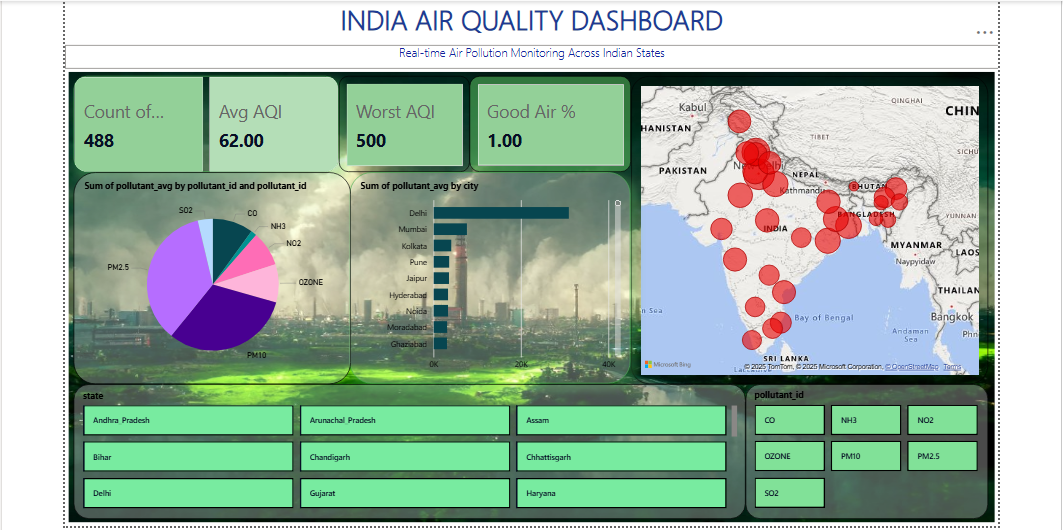

The dashboard page shown, as its layout file describes it:
{"tool":"powerbi","page":{"name":"Page 1","canvas":[1280,720],"ordinal":0},"visuals":[{"type":"textbox","box":[0,0,1280,60],"z":0},{"type":"textbox","box":[0,60,1280,32.5],"z":1000},{"type":"image","box":[0,92.4,1280.7,627.9],"z":2000},{"type":"cardVisual","fields":{"Data":["Count(aqidataset.station)","aqidataset.Avg AQI"]},"box":[11.7,102.7,363.8,132],"z":3000},{"type":"cardVisual","fields":{"Data":["aqidataset.Worst AQI"]},"box":[375.6,102.7,179,132],"z":4000},{"type":"cardVisual","fields":{"Data":["aqidataset.Good Air %"]},"box":[554.5,102.7,221.5,132],"z":5000},{"type":"map","fields":{"Size":["Avg(aqidataset.pollutant_avg)"],"Y":["latitude.latitude"],"X":["longitude.longitude"]},"box":[776,102.7,490,422.5],"z":6000},{"type":"clusteredBarChart","fields":{"Category":["aqidataset.city"],"Y":["Sum(aqidataset.pollutant_avg)"]},"box":[390.9,235.3,384.9,289.5],"z":7000},{"type":"pieChart","fields":{"Category":["aqidataset.pollutant_id","aqidataset.last_update.Variation.Date Hierarchy.Day"],"Y":["Sum(aqidataset.pollutant_avg)"],"Series":["aqidataset.pollutant_id"]},"box":[11.7,234.7,380,290.5],"z":8000},{"type":"advancedSlicerVisual","fields":{"Values":["latitude.state"]},"box":[11.7,525.2,921.3,184.8],"z":9000},{"type":"advancedSlicerVisual","fields":{"Values":["pollutant type.pollutant_id"]},"box":[933,525.2,333,184.8],"z":10000}]}

Visuals, with their boxes in screenshot pixels (x1, y1, x2, y2):
textbox: bbox=(64, 0, 991, 43)
textbox: bbox=(64, 43, 991, 67)
image: bbox=(64, 67, 991, 522)
cardVisual - Count(aqidataset.station) x aqidataset.Avg AQI: bbox=(72, 74, 336, 170)
cardVisual - aqidataset.Worst AQI: bbox=(336, 74, 465, 170)
cardVisual - aqidataset.Good Air %: bbox=(465, 74, 626, 170)
map - Avg(aqidataset.pollutant_avg) x latitude.latitude: bbox=(626, 74, 981, 380)
clusteredBarChart - aqidataset.city x Sum(aqidataset.pollutant_avg): bbox=(347, 170, 626, 380)
pieChart - aqidataset.pollutant_id x aqidataset.last_update.Variation.Date Hierarchy.Day: bbox=(72, 170, 347, 380)
advancedSlicerVisual - latitude.state: bbox=(72, 380, 739, 514)
advancedSlicerVisual - pollutant type.pollutant_id: bbox=(739, 380, 981, 514)
